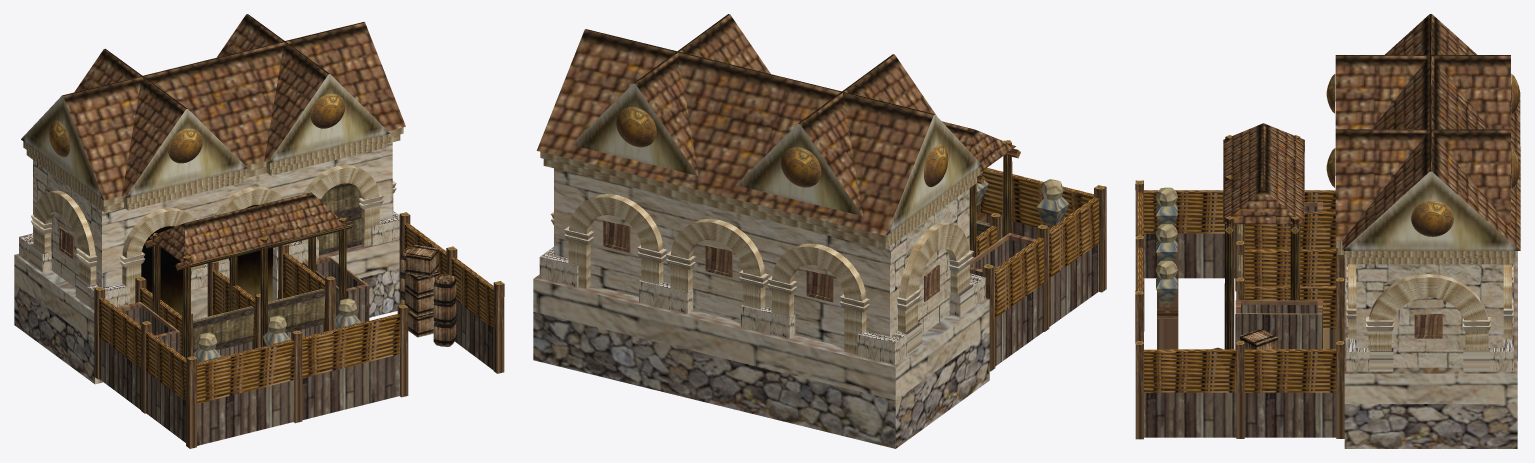
Rendered from stable.dae.
The picture shows the model from 3 angles, left to right: view 1: azimuth 30°, elevation 25°; view 2: azimuth 150°, elevation 25°; view 3: azimuth 270°, elevation 25°; orthographic projection. The views are drawn at different scales.
Visible parts, largest first — view 1: stable; view 2: stable; view 3: stable.
Boxes of the visible parts, x1,y1,x2,y2 form: stable: [14, 14, 504, 448]; stable: [533, 14, 1106, 448]; stable: [1135, 14, 1520, 448].
Bounding box in the file's own units: 18.58 × 18.04 × 14.22.
